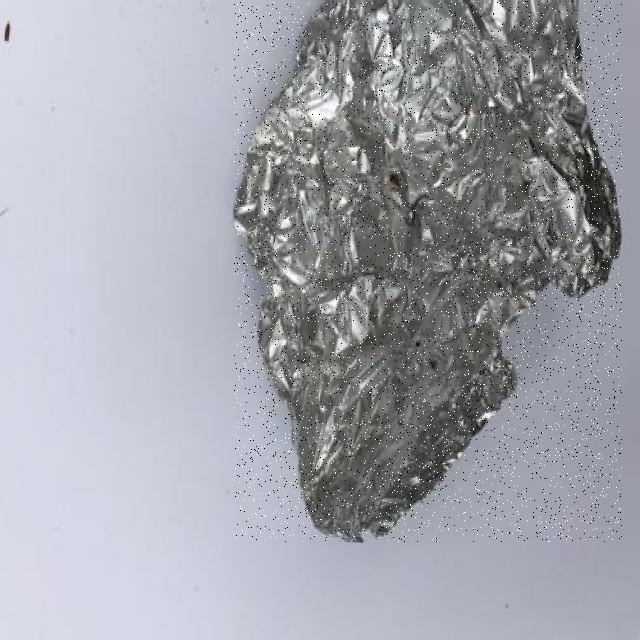metal: (234, 1, 622, 541)
